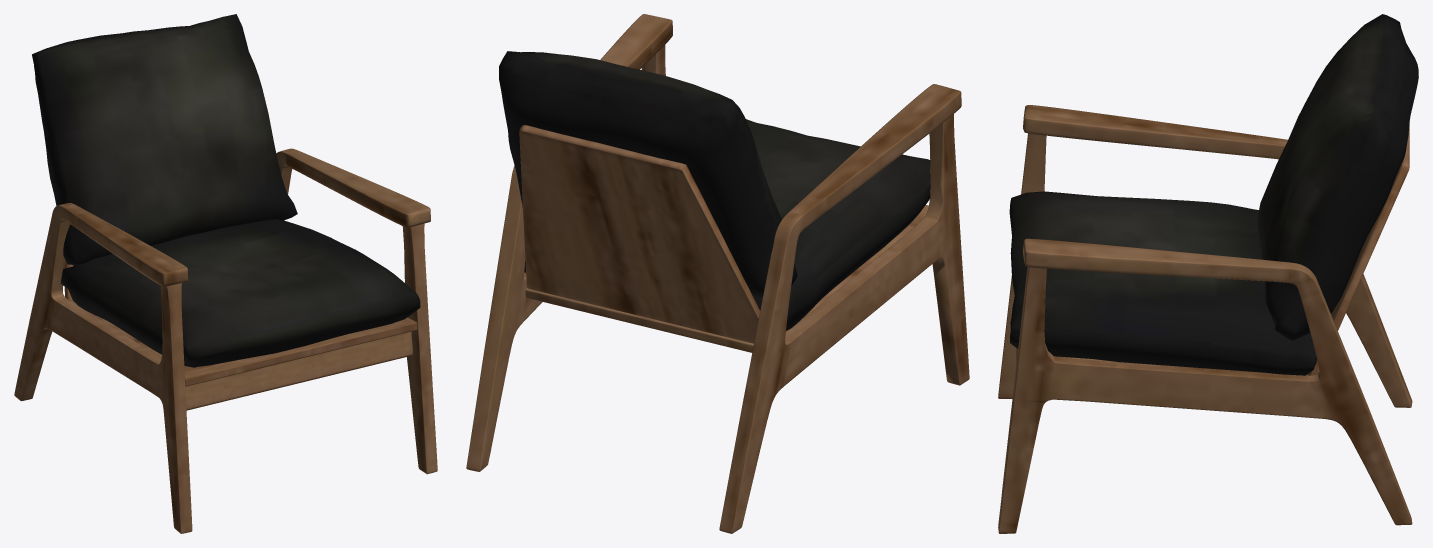
Rendered from armchair-modern-01.lite.232fd03e.glb.
3 views of the same model, side by side, from view 1: azimuth 30°, elevation 25°; view 2: azimuth 150°, elevation 25°; view 3: azimuth 270°, elevation 25° (orthographic). The views are drawn at different scales.
Visible parts, largest first — view 1: model; view 2: model; view 3: model.
Part boxes in pixels (bbox=[...]): model: bbox=[14, 14, 437, 533]; model: bbox=[466, 14, 969, 533]; model: bbox=[998, 14, 1418, 533].
Bounding box in the file's own units: 0.8203 × 1.02 × 0.9866.
Materials: 2 (2 with a texture image).
